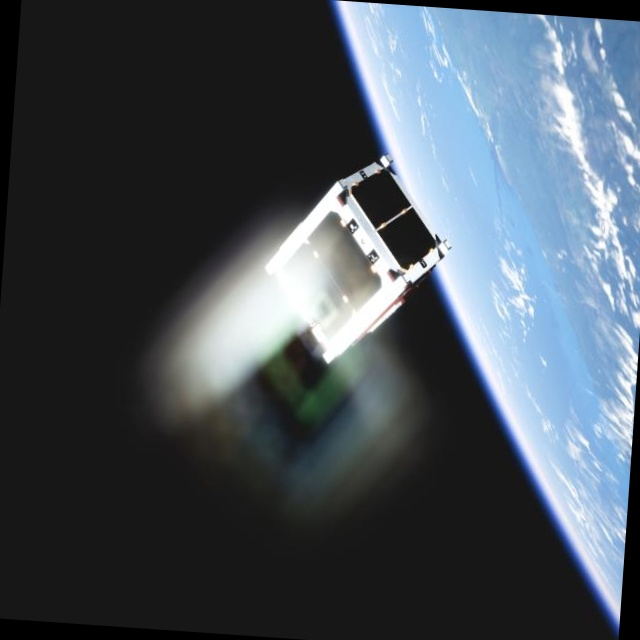medium_debris: (253, 147, 464, 376)
